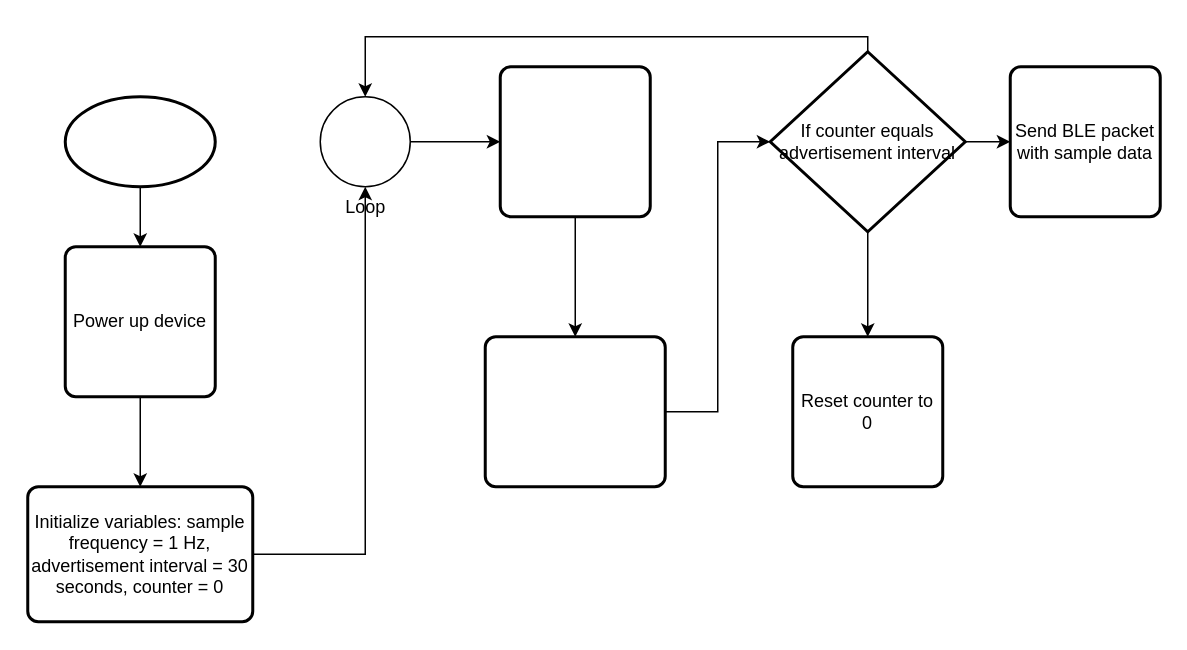
Image size: 1187x650. Some labels were removed from this diagram. The centre of each missing label's shape, as x and y in pixels:
Increment counter by 1: the point at 574,411
Start: the point at 139,141
Take a sample: the point at 574,141
